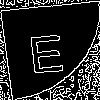E: (25, 25, 67, 74)
